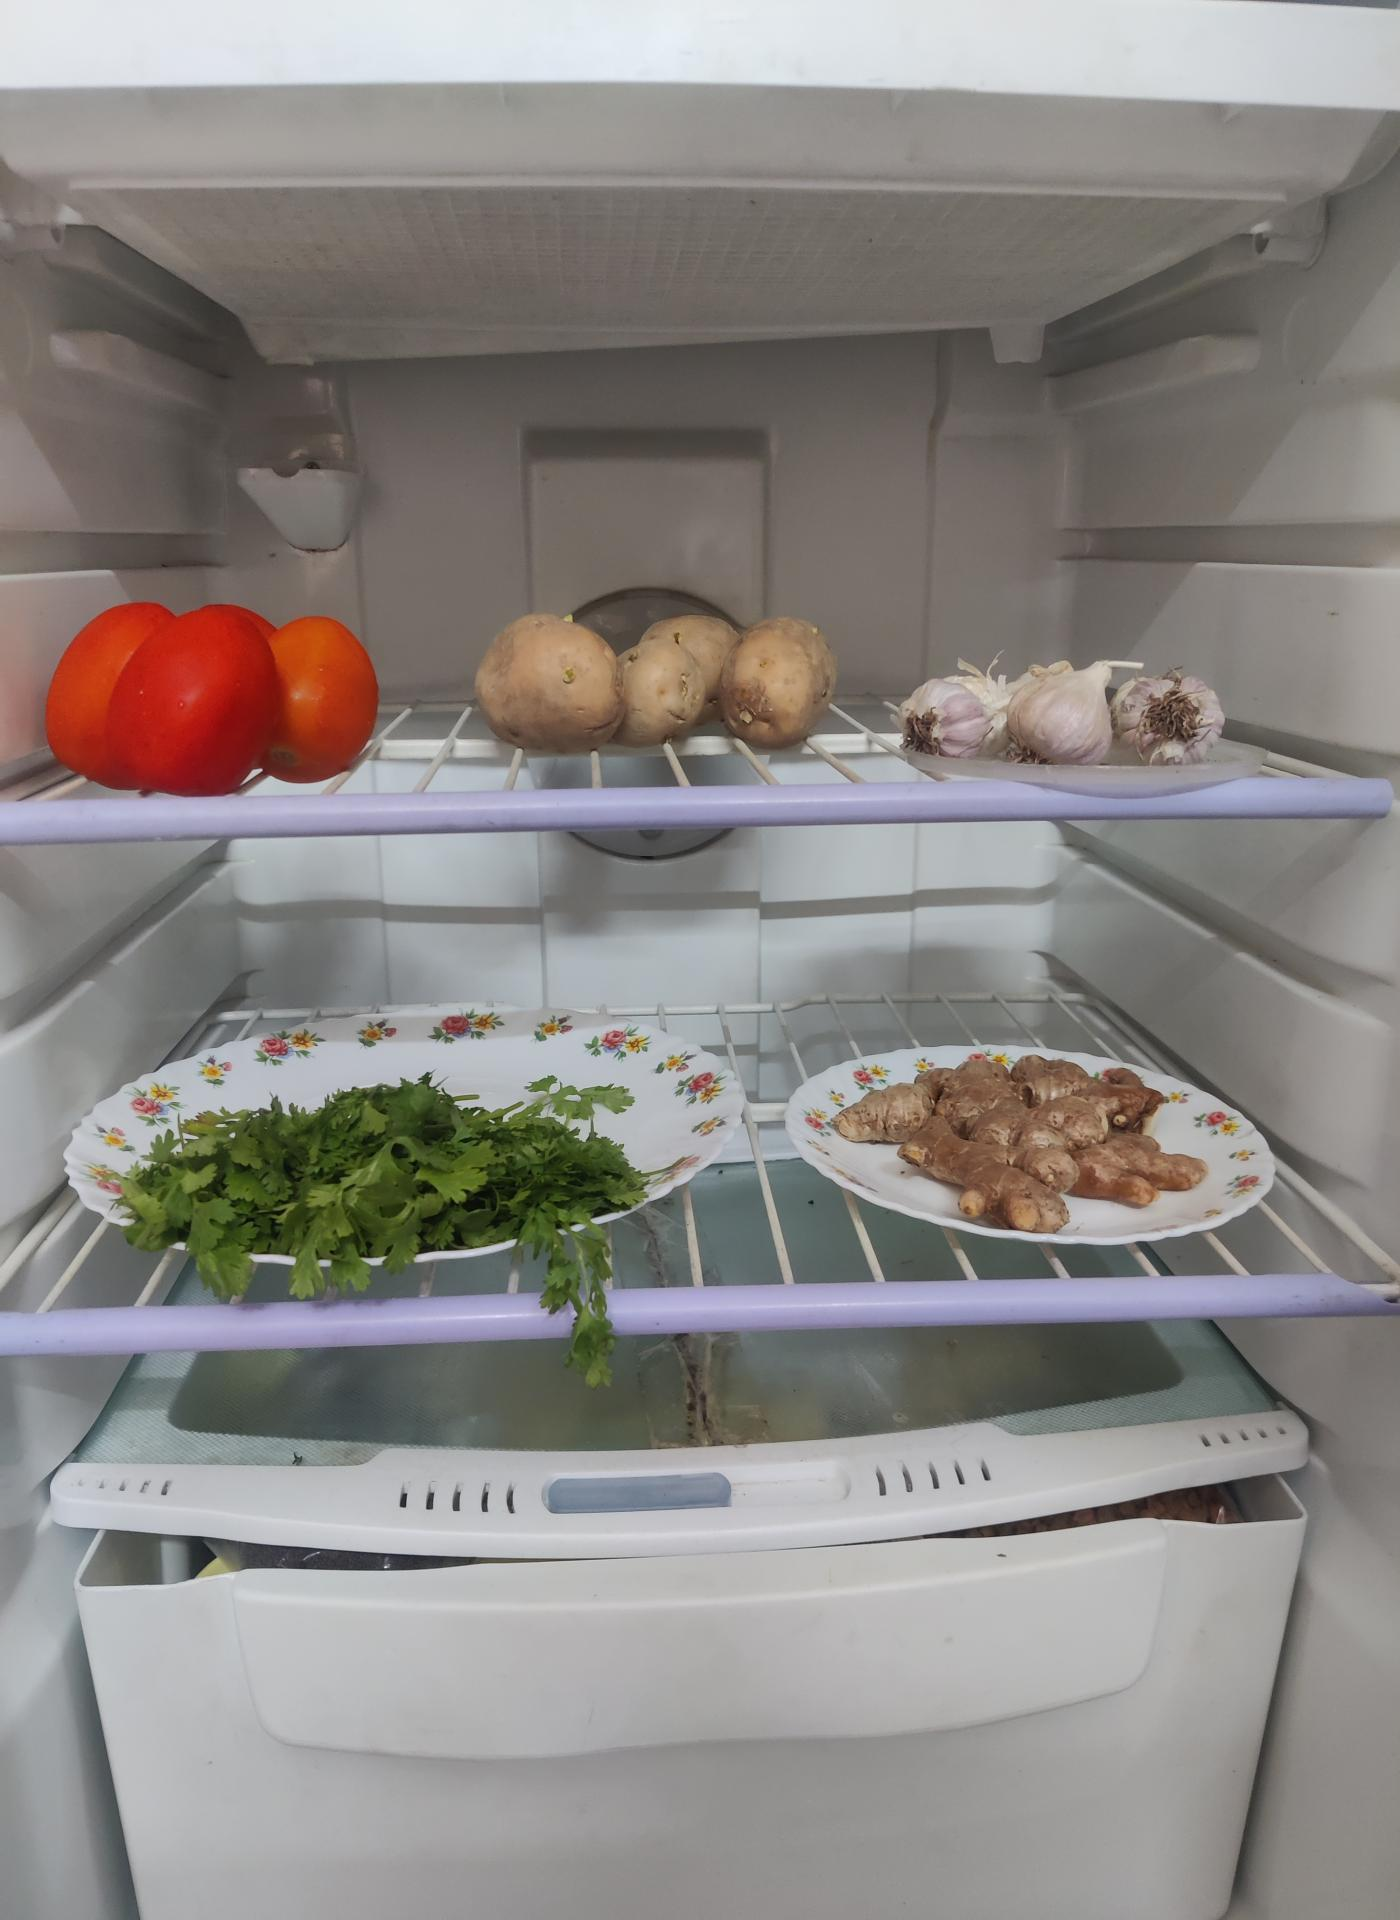coriander: (98, 1088, 662, 1292)
garlic: (904, 650, 1224, 757)
ginger: (814, 1058, 1187, 1246)
potato: (474, 602, 845, 754)
tomato: (40, 598, 376, 789)
